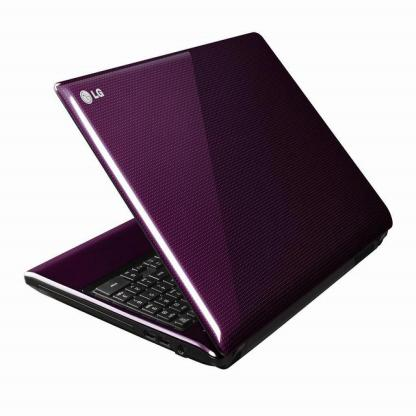board: (28, 18, 384, 364)
